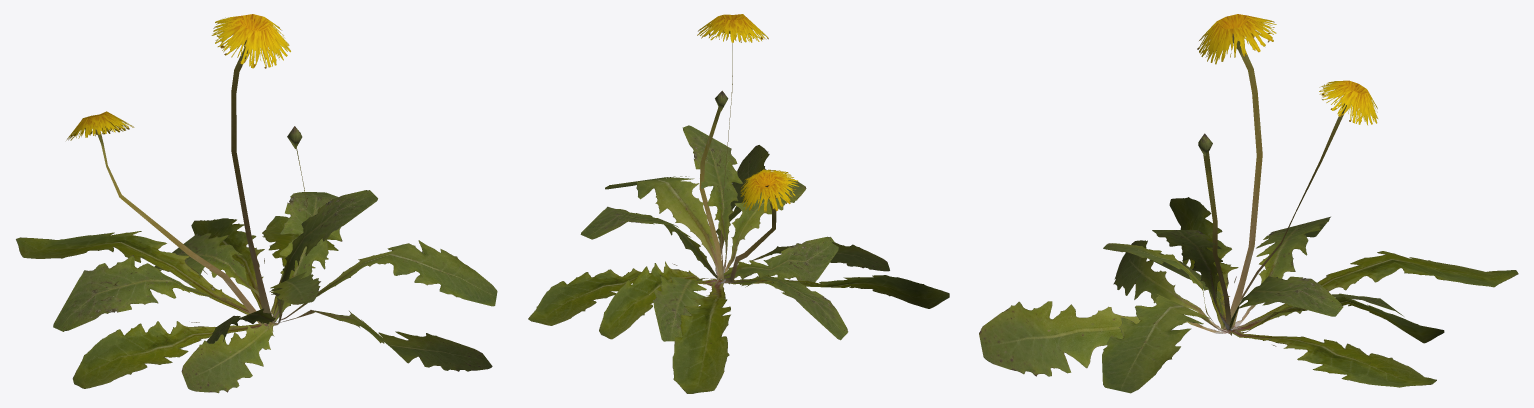
Rendered from dandelion_01_a.gltf.
The picture shows the model from 3 angles, left to right: view 1: azimuth 30°, elevation 25°; view 2: azimuth 150°, elevation 25°; view 3: azimuth 270°, elevation 25°; orthographic projection. The views are drawn at different scales.
Parts seen in each view (by area): view 1: dandelion_01_a__x; view 2: dandelion_01_a__x; view 3: dandelion_01_a__x.
Part boxes in pixels (<box>): dandelion_01_a__x: <box>16,14,497,393</box>; dandelion_01_a__x: <box>528,14,949,393</box>; dandelion_01_a__x: <box>979,14,1518,393</box>.
Size of the model in its own units: 0.2176 by 0.1591 by 0.2505.
Materials: 1 (1 with a texture image).
